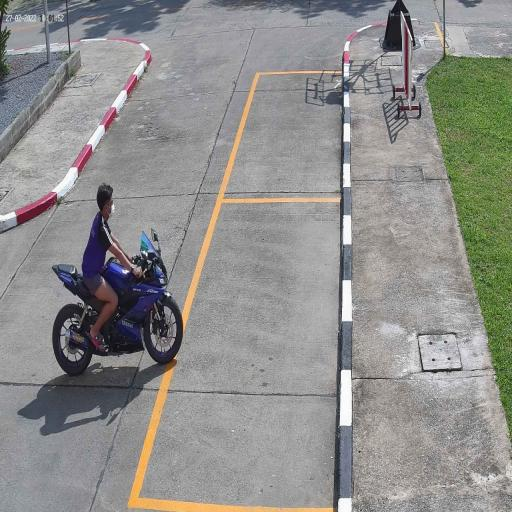motorcycle: (50, 259, 186, 377)
